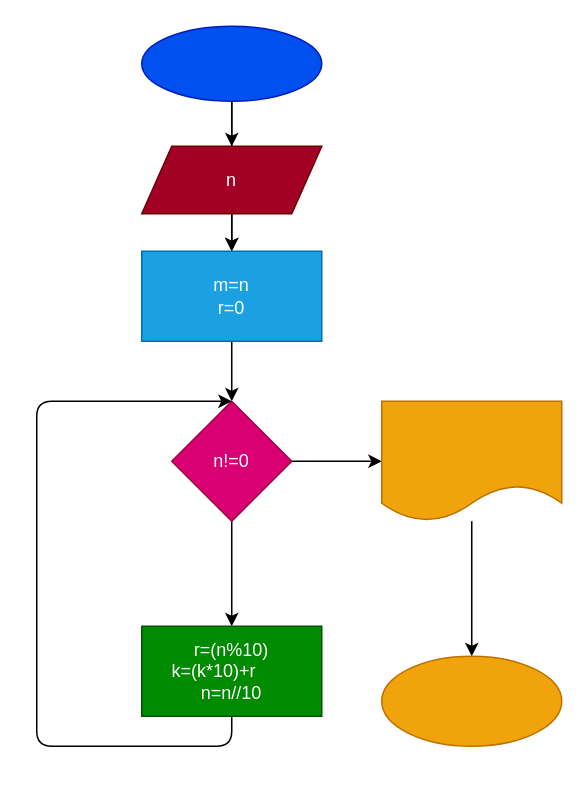
Some shapes in this 588 by 785 pixel diagram are drawn without their labels. The shapes that lost their labels are listed below. From the top down, each one's centre as x and y in pixels, then its label:
point 231,63: inicio
point 471,460: n,k
